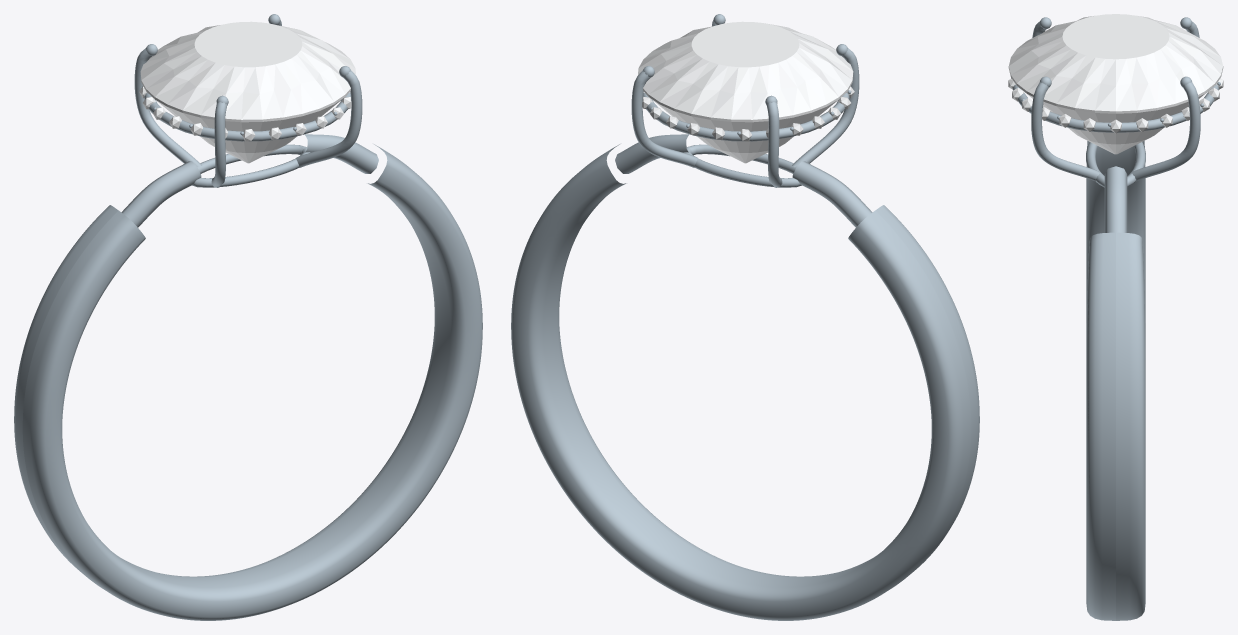
File: lumen-visual-v1-round.glb
3 views of the same model, side by side, from view 1: azimuth 30°, elevation 25°; view 2: azimuth 150°, elevation 25°; view 3: azimuth 270°, elevation 25° (orthographic).
Parts seen in each view (by area): view 1: Band, CenterStone, Shoulder--1, BasketBridge, Prong-1, HiddenHaloRail, Prong-3, Shoulder-1, Prong-2; view 2: Band, CenterStone, Shoulder--1, BasketBridge, Prong-4, HiddenHaloRail, Prong-2, Shoulder-1, Prong-3; view 3: Band, CenterStone, Shoulder-1, Prong-1, Prong-4, HiddenHaloRail, BasketBridge.
Part boxes in pixels (left/top/right/bottom): Band: left=14, top=144, right=482, bottom=620; CenterStone: left=140, top=21, right=355, bottom=163; Shoulder--1: left=121, top=161, right=201, bottom=227; BasketBridge: left=192, top=144, right=310, bottom=187; Prong-1: left=295, top=70, right=362, bottom=167; HiddenHaloRail: left=144, top=93, right=350, bottom=141; Prong-3: left=134, top=48, right=201, bottom=167; Shoulder-1: left=305, top=134, right=378, bottom=173; Prong-2: left=211, top=102, right=227, bottom=187; Band: left=511, top=144, right=979, bottom=620; CenterStone: left=638, top=21, right=853, bottom=163; Shoulder--1: left=792, top=161, right=872, bottom=227; BasketBridge: left=683, top=144, right=801, bottom=187; Prong-4: left=631, top=70, right=698, bottom=167; HiddenHaloRail: left=643, top=93, right=849, bottom=141; Prong-2: left=792, top=48, right=859, bottom=167; Shoulder-1: left=615, top=134, right=688, bottom=173; Prong-3: left=766, top=102, right=782, bottom=187; Band: left=1086, top=141, right=1145, bottom=620; CenterStone: left=1008, top=14, right=1223, bottom=154; Shoulder-1: left=1104, top=166, right=1127, bottom=232; Prong-1: left=1031, top=82, right=1101, bottom=181; Prong-4: left=1130, top=82, right=1200, bottom=181; HiddenHaloRail: left=1012, top=84, right=1219, bottom=132; BasketBridge: left=1086, top=142, right=1145, bottom=187.
Bounding box in the file's own units: 19.55 × 23.36 × 8.13.
